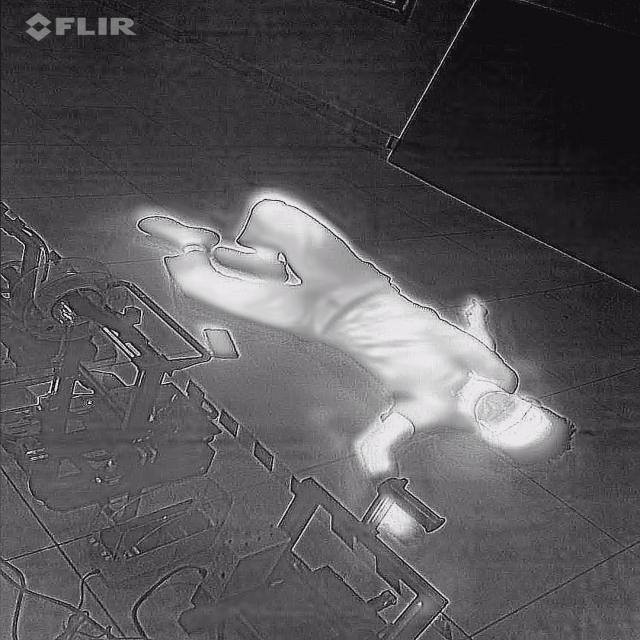Victim: (134, 188, 583, 549)
